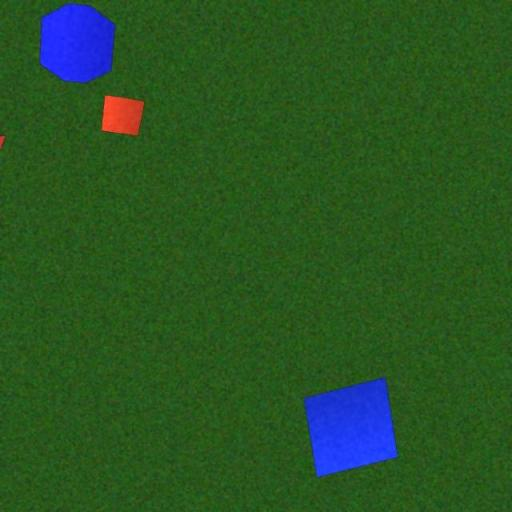BLUE_SQUARE: (304, 376, 398, 478)
RED_SQUARE: (100, 94, 146, 136)
